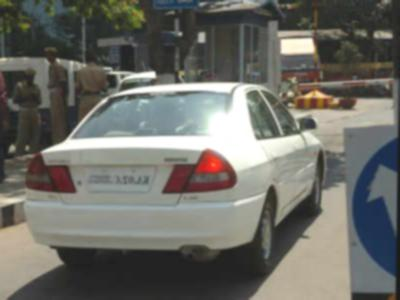License_Plate: (82, 167, 155, 194)
